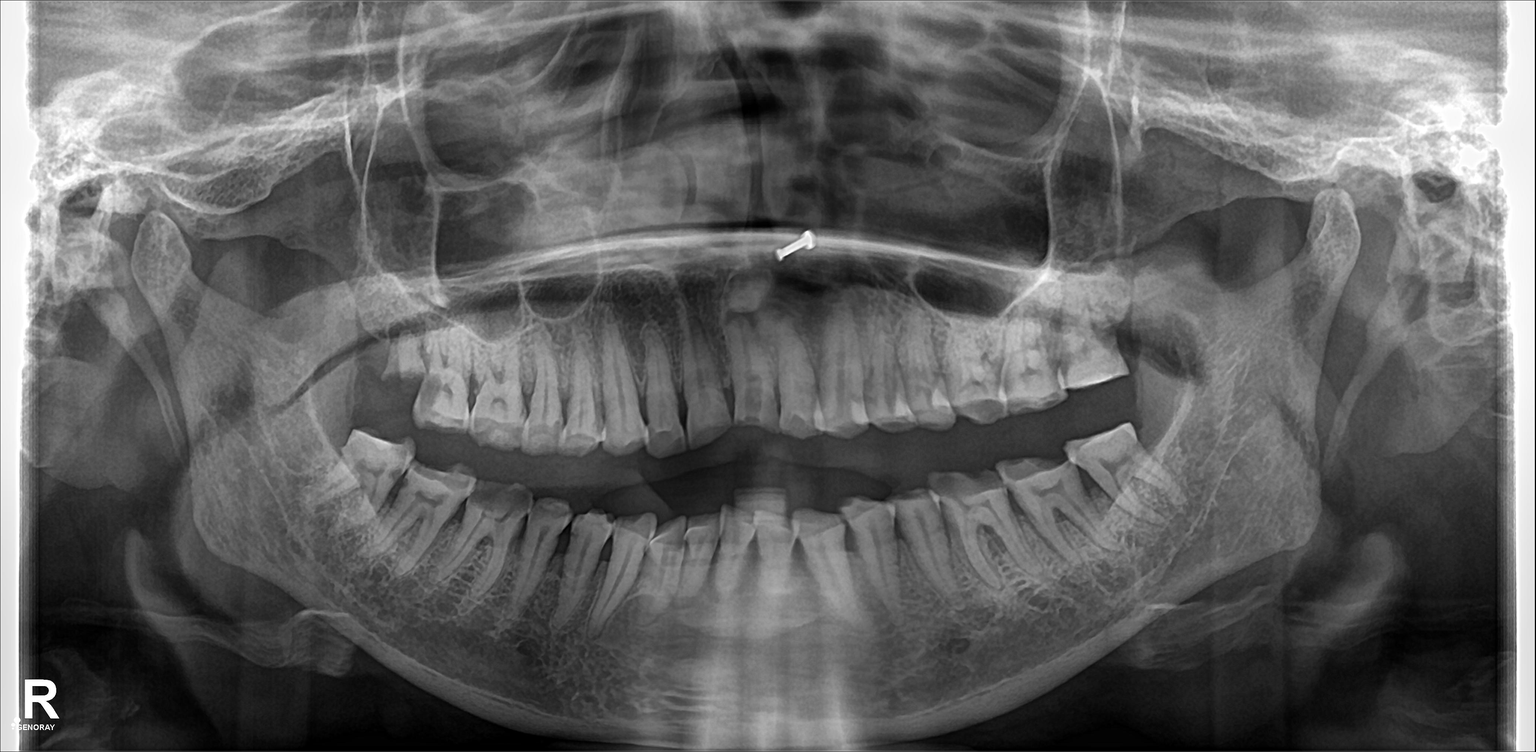Dental Caries: (467, 484, 530, 520), (412, 374, 445, 414)
Retained Root: (365, 329, 425, 395)
